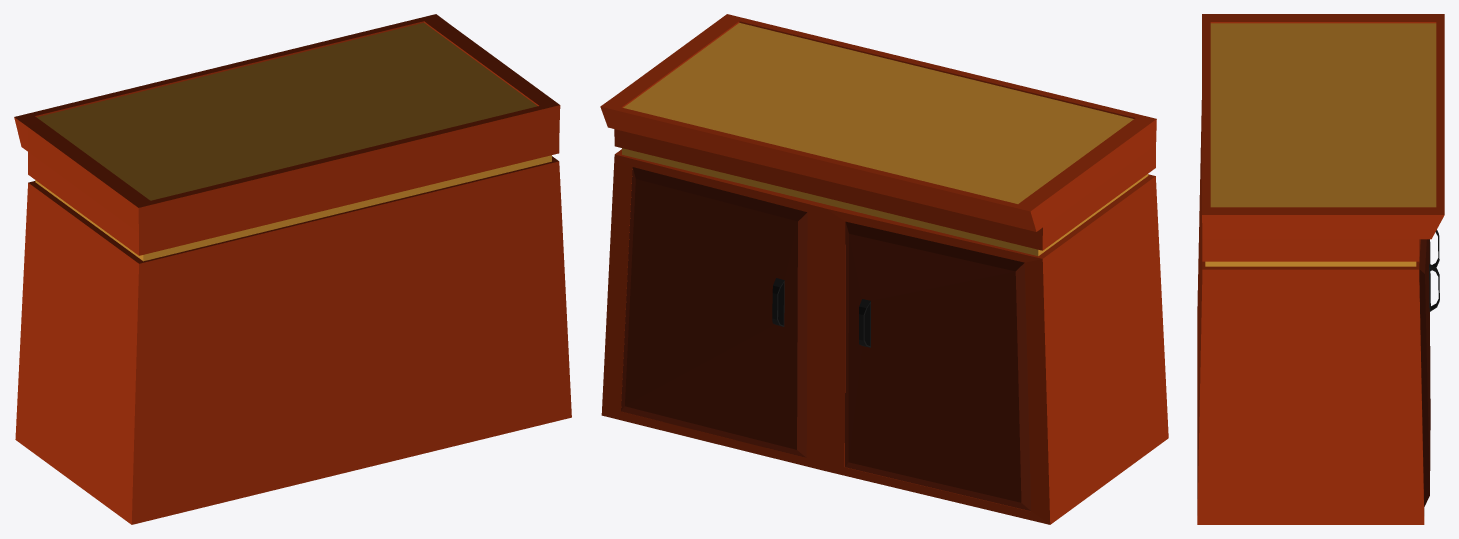
Rendered from Cabinet 7.fbx.
The picture shows the model from 3 angles, left to right: view 1: azimuth 30°, elevation 25°; view 2: azimuth 150°, elevation 25°; view 3: azimuth 270°, elevation 25°; orthographic projection. The views are drawn at different scales.
Parts seen in each view (by area): view 1: Node 0; view 2: Node 0, Node 2, Node 1; view 3: Node 0, Node 1.
Part boxes in pixels (box(x1,y1,x2,y2)): Node 0: box(14, 14, 571, 524); Node 0: box(600, 14, 1168, 524); Node 2: box(845, 221, 1030, 510); Node 1: box(621, 167, 807, 457); Node 0: box(1197, 14, 1444, 524); Node 1: box(1419, 239, 1439, 506).
Size of the model in its own units: 0.6509 by 0.8896 by 1.31.
